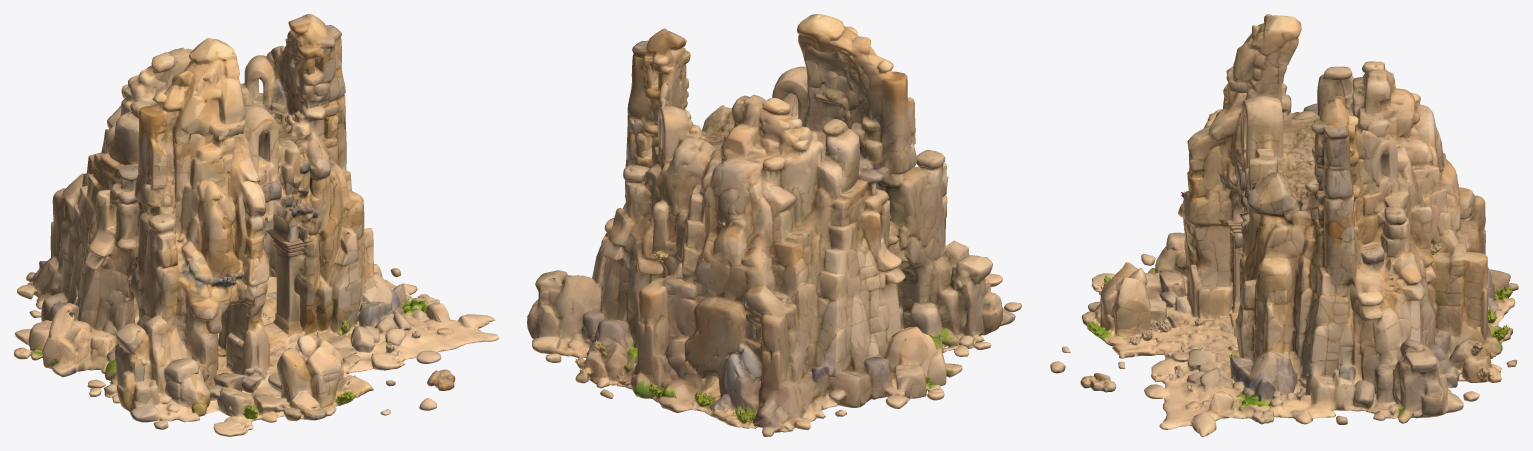
The model's file is Stone_Fortress.glb.
The picture shows the model from 3 angles, left to right: view 1: azimuth 30°, elevation 25°; view 2: azimuth 150°, elevation 25°; view 3: azimuth 270°, elevation 25°; orthographic projection. The views are drawn at different scales.
Parts seen in each view (by area): view 1: Stone_Fortress; view 2: Stone_Fortress; view 3: Stone_Fortress.
Boxes of the visible parts, <box> form: Stone_Fortress: <box>14,14,498,436</box>; Stone_Fortress: <box>527,14,1021,436</box>; Stone_Fortress: <box>1050,14,1518,436</box>.
Bounding box in the file's own units: 1.86 × 1.42 × 1.9.
1 material, 1 textured.
